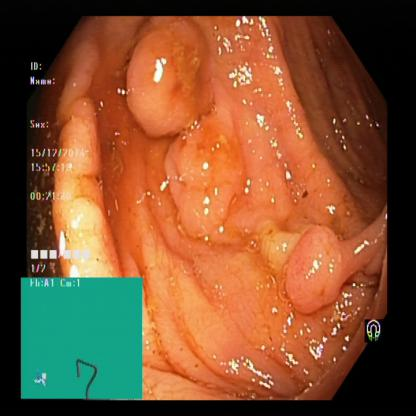Labels: (27, 57, 96, 280), (23, 278, 141, 401), (366, 314, 390, 348)
Polyps: (129, 16, 209, 135), (168, 126, 246, 239), (267, 220, 357, 306)
